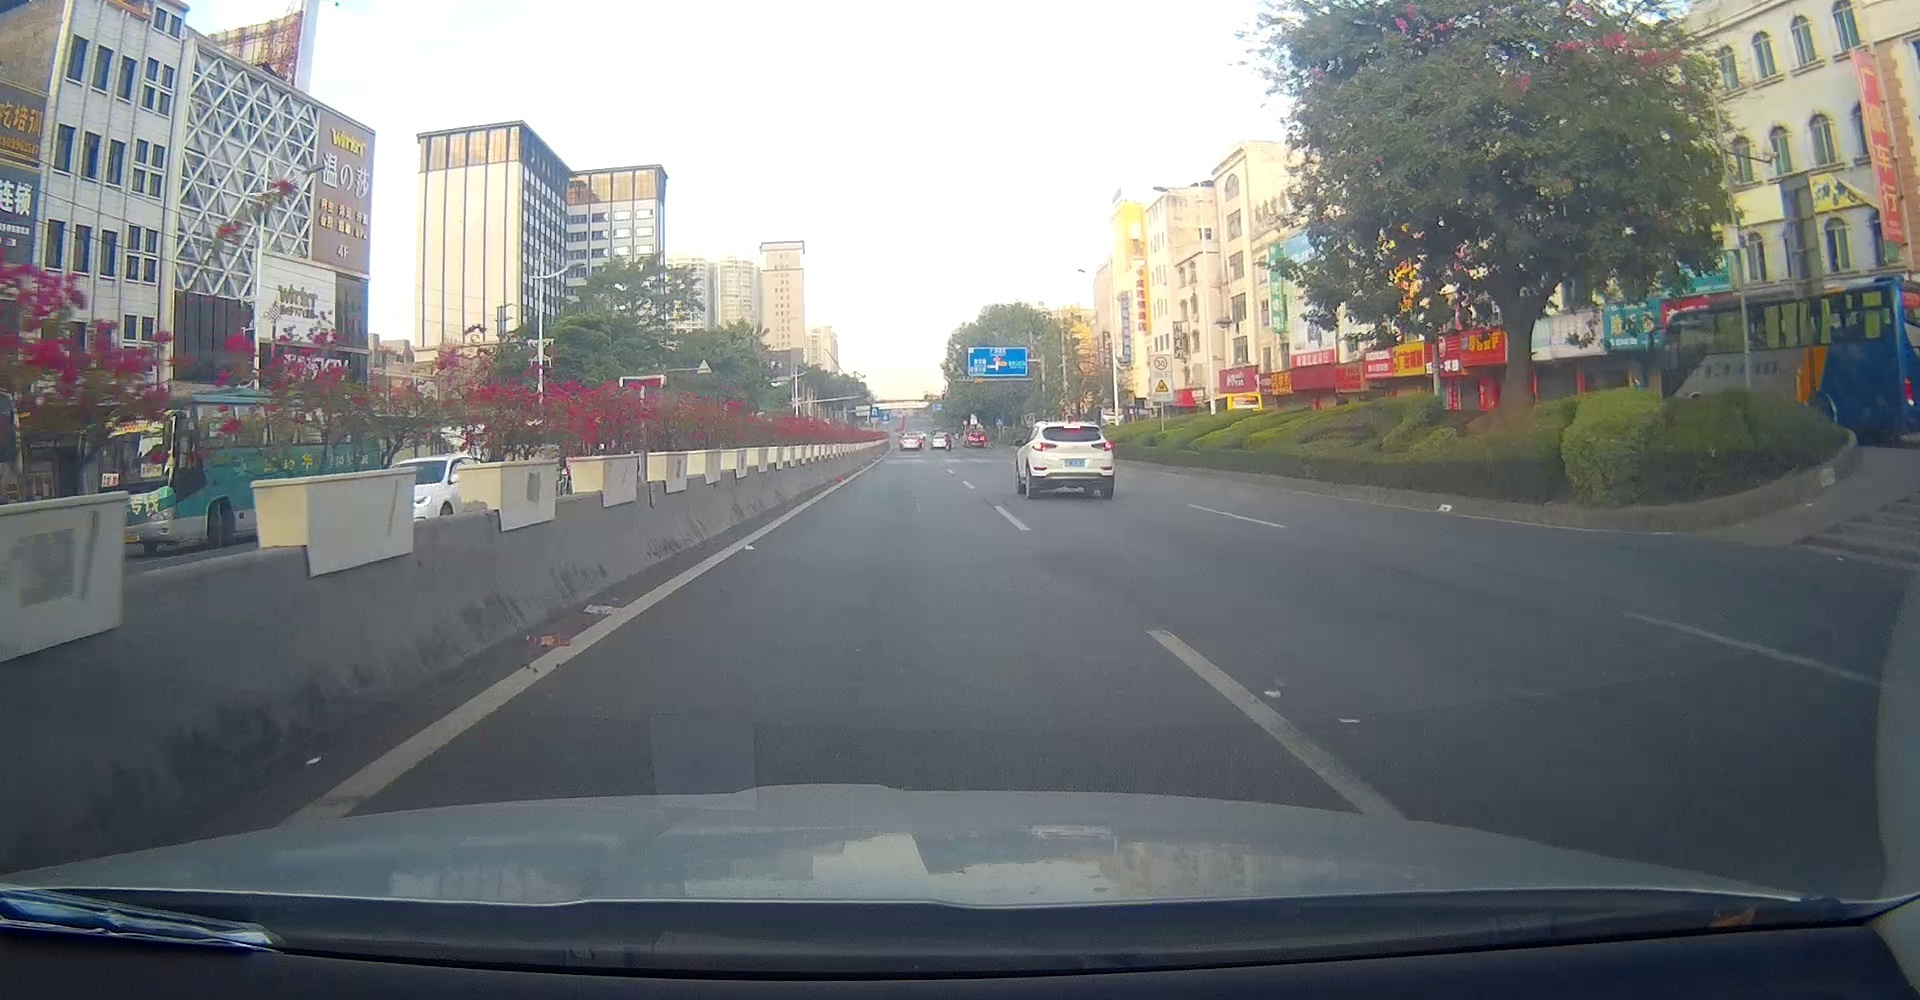L_light: (1032, 442, 1057, 451)
R_light: (1090, 442, 1114, 451)
T_light: (1063, 425, 1081, 431)
day-brake: (1029, 421, 1114, 500)
